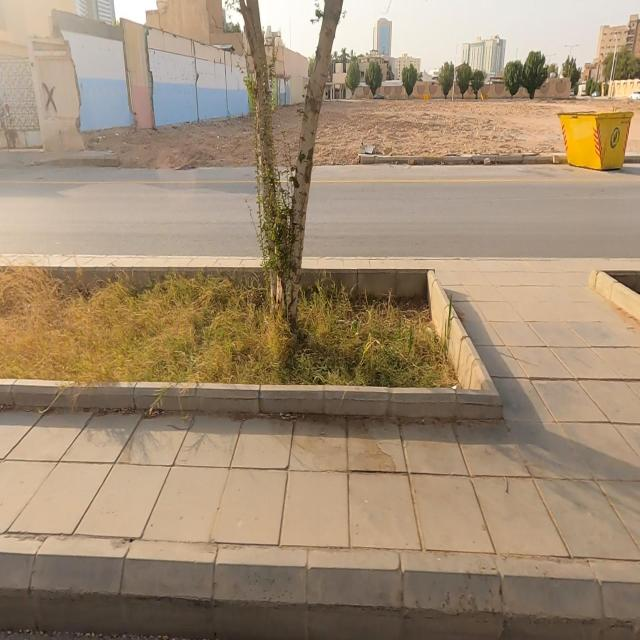Graffiti: (42, 82, 56, 115)
